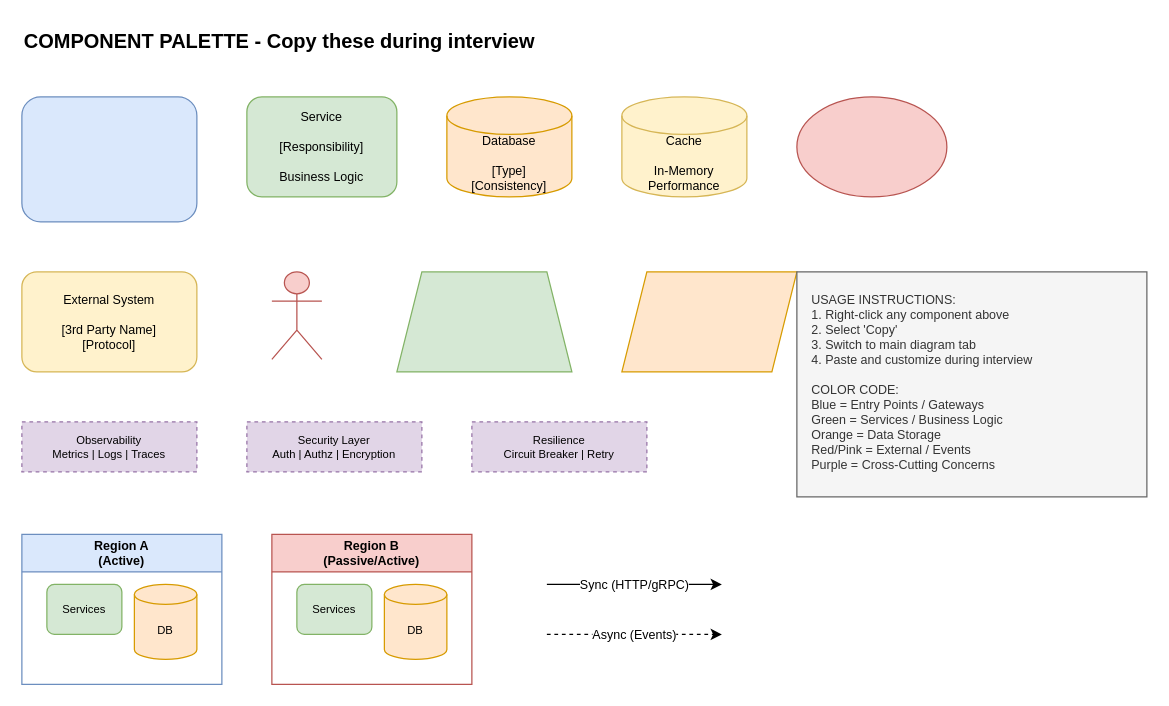
Some shapes in this 1169 by 706 pixel diagram are drawn without their labels. The centre of each missing label's shape, as x and y in pixels:
API Gateway • Authentication • Rate Limiting • Routing • Load Balancing: (109,159)
Event Broker Async Messaging Pub/Sub: (871,146)
Load Balancer Traffic Distribution Health Checks: (484,321)
Message Queue Async Processing Buffering: (709,321)
User: (296,315)
